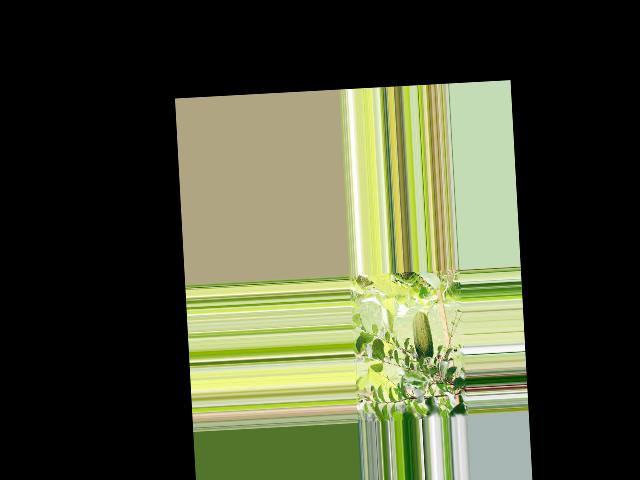cucumber: (412, 311, 435, 365)
